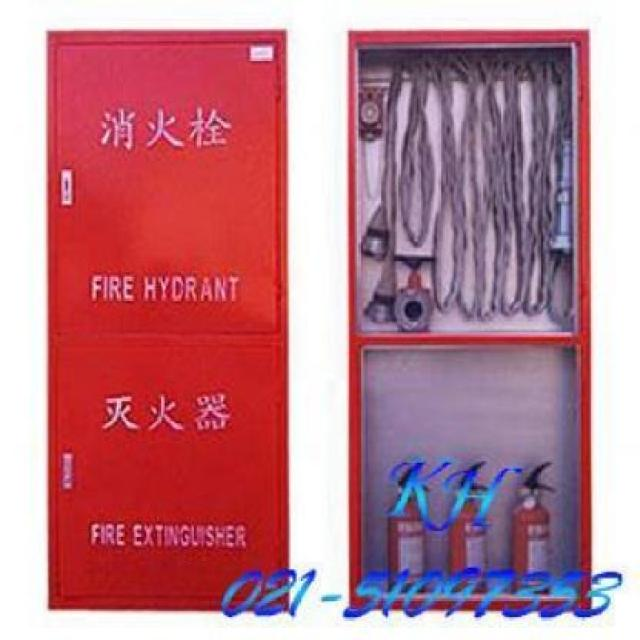firehydrant: (40, 23, 295, 619), (342, 21, 596, 618)
